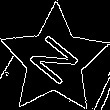N_SE: (23, 29, 85, 91)
